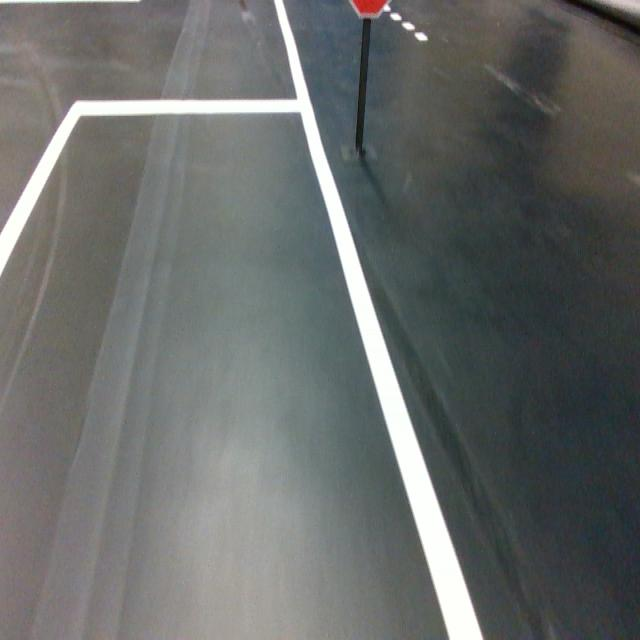stop-sign: (347, 0, 391, 18)
